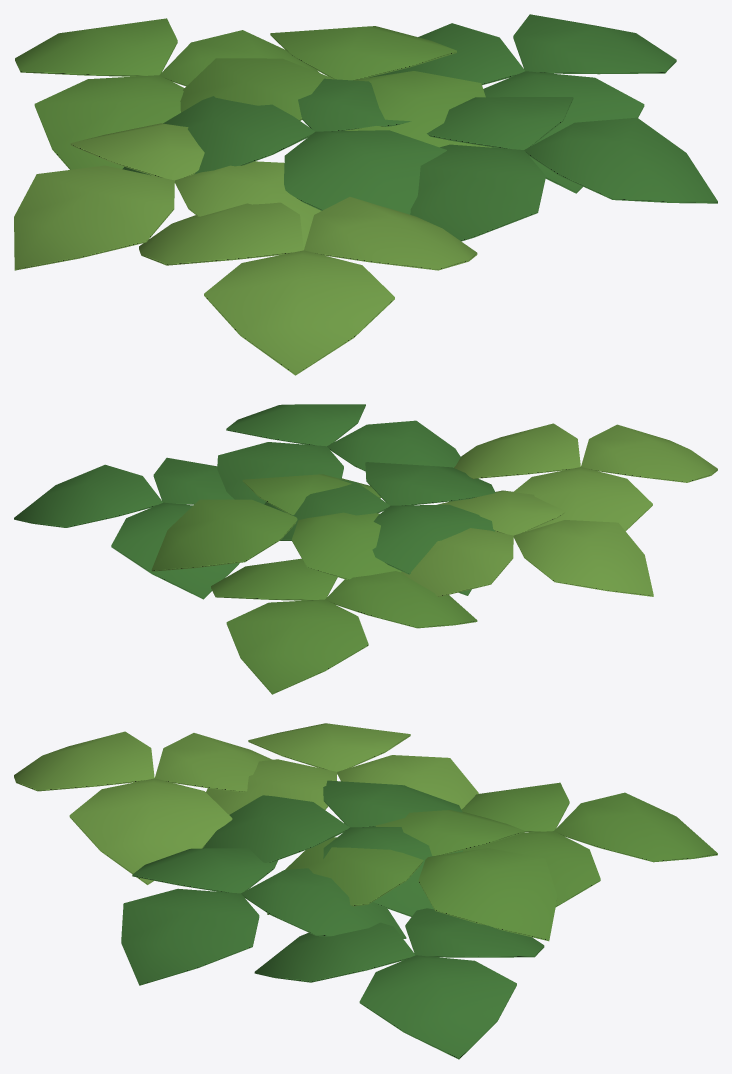
Rendered from clover.glb.
3 renders of one model, top to bottom at view 1: azimuth 30°, elevation 25°; view 2: azimuth 150°, elevation 25°; view 3: azimuth 270°, elevation 25°, orthographic. The views are drawn at different scales.
Visible parts, largest first — view 1: clover; view 2: clover; view 3: clover.
Boxes of the visible parts, <box> form: clover: <box>14,14,717,375</box>; clover: <box>14,404,717,694</box>; clover: <box>14,723,717,1059</box>.
Bounding box in the file's own units: 0.6027 × 0.0668 × 0.5912.
